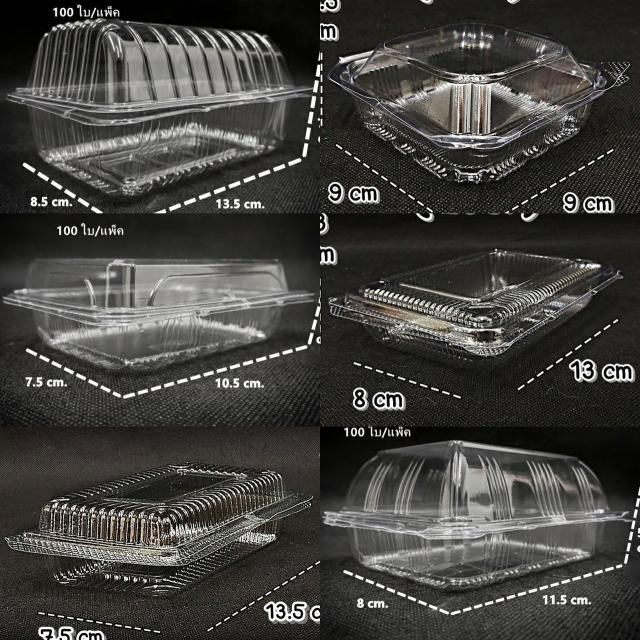Single-Use-Plastic: (8, 19, 309, 194), (328, 22, 629, 182), (324, 440, 627, 589), (6, 462, 311, 595), (4, 259, 314, 370), (329, 249, 622, 363)
